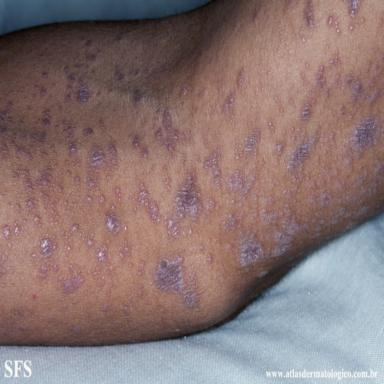lichen: (237, 209, 308, 268), (331, 162, 384, 232), (164, 165, 202, 237), (225, 128, 261, 201), (155, 255, 199, 308), (343, 116, 380, 171), (154, 108, 193, 154), (300, 65, 329, 121), (287, 129, 318, 171), (345, 77, 384, 104), (138, 183, 162, 223), (8, 135, 36, 161), (203, 149, 221, 188), (59, 271, 84, 294), (12, 169, 32, 193), (63, 121, 77, 155), (65, 64, 76, 103), (221, 212, 243, 231), (35, 164, 52, 188), (81, 36, 97, 61), (88, 146, 106, 168), (30, 126, 47, 147), (223, 91, 235, 120), (236, 66, 248, 94), (39, 237, 55, 258), (77, 80, 91, 102), (133, 87, 147, 108), (327, 16, 341, 34), (106, 215, 119, 234), (305, 0, 314, 27), (109, 143, 119, 167), (317, 192, 331, 209), (347, 0, 361, 17), (86, 172, 100, 189), (119, 241, 131, 258), (1, 138, 9, 163), (41, 109, 51, 127), (97, 244, 107, 262), (73, 171, 83, 188), (0, 110, 13, 123), (25, 198, 38, 211), (329, 52, 341, 66), (115, 66, 125, 82), (130, 193, 138, 213), (205, 198, 215, 213), (38, 265, 48, 280), (35, 84, 47, 96), (283, 0, 294, 13), (253, 6, 261, 22), (267, 119, 276, 133), (99, 118, 106, 136), (71, 325, 81, 337), (275, 142, 284, 155), (140, 147, 149, 160), (85, 233, 94, 246), (13, 221, 21, 235), (83, 127, 94, 137), (114, 186, 121, 201), (133, 136, 141, 149), (3, 226, 11, 239), (70, 223, 79, 234), (123, 303, 131, 315), (198, 89, 207, 99), (101, 303, 111, 312), (339, 103, 346, 115), (34, 215, 41, 227), (181, 84, 187, 97), (41, 70, 49, 79), (0, 126, 7, 136), (164, 178, 170, 189), (207, 253, 213, 264), (42, 195, 49, 204), (57, 183, 63, 193), (6, 100, 13, 108), (99, 195, 105, 203), (16, 204, 21, 211), (140, 261, 145, 268), (87, 196, 92, 202), (110, 204, 115, 210), (138, 291, 143, 297), (124, 225, 127, 231), (23, 219, 26, 224)
